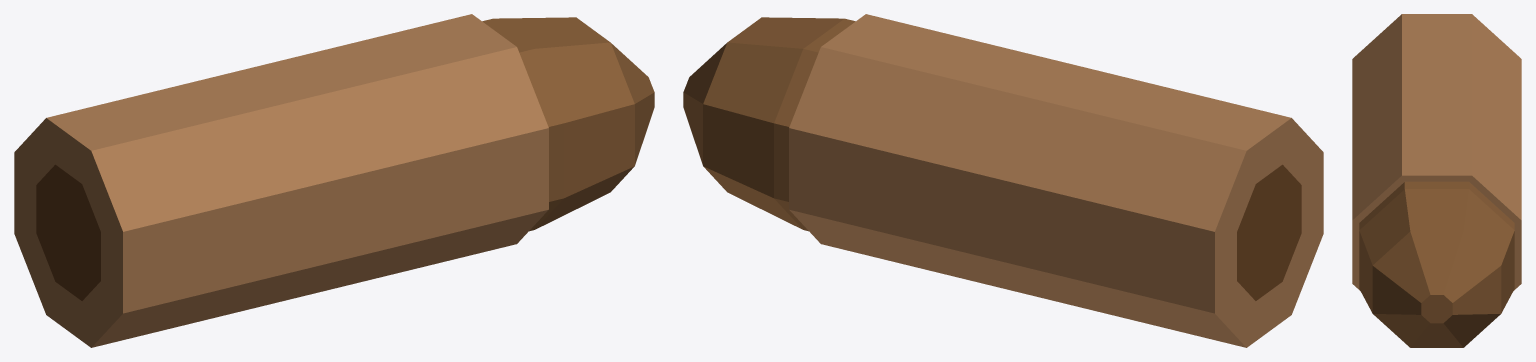
Rendered from SideArm-Bullet.fbx.
The picture shows the model from 3 angles, left to right: view 1: azimuth 30°, elevation 25°; view 2: azimuth 150°, elevation 25°; view 3: azimuth 270°, elevation 25°; orthographic projection. The views are drawn at different scales.
Visible parts, largest first — view 1: BulletLite_01_2, BulletLite_01; view 2: BulletLite_01_2, BulletLite_01; view 3: BulletLite_01_2, BulletLite_01.
Part boxes in pixels (left/top/right/bottom): BulletLite_01_2: left=14, top=14, right=548, bottom=347; BulletLite_01: left=482, top=17, right=654, bottom=231; BulletLite_01_2: left=789, top=14, right=1323, bottom=347; BulletLite_01: left=683, top=17, right=855, bottom=231; BulletLite_01_2: left=1352, top=14, right=1521, bottom=290; BulletLite_01: left=1359, top=181, right=1514, bottom=347.
Bounding box in the file's own units: 3.43 × 1.12 × 1.12.
1 material, 1 textured.
